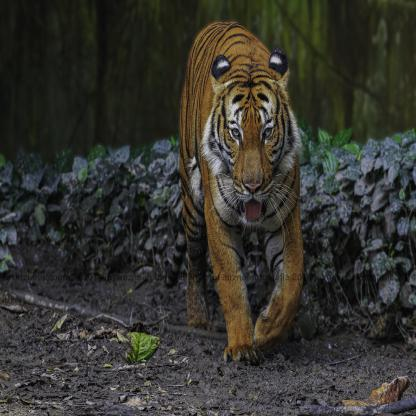Tiger: (177, 20, 303, 361)
